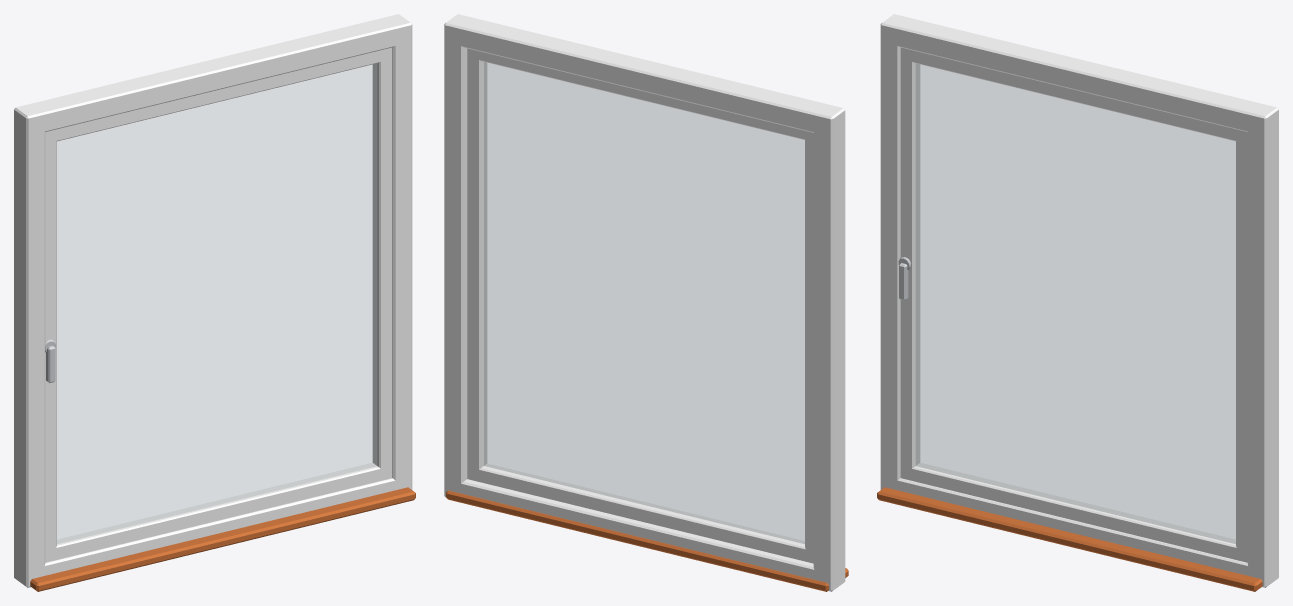
File: window-1200x1400.glb
The picture shows the model from 3 angles, left to right: view 1: azimuth 30°, elevation 25°; view 2: azimuth 150°, elevation 25°; view 3: azimuth 330°, elevation 25°; orthographic projection.
Parts seen in each view (by area): view 1: window-1200x1400.glass, window-1200x1400.tint, window-1200x1400.accent; view 2: window-1200x1400.glass, window-1200x1400.tint, window-1200x1400.accent; view 3: window-1200x1400.glass, window-1200x1400.tint, window-1200x1400.accent.
Part boxes in pixels (x1,y1,x2,y2): window-1200x1400.glass: (57,63,376,543); window-1200x1400.tint: (14,14,412,587); window-1200x1400.accent: (30,487,415,591); window-1200x1400.glass: (484,62,804,543); window-1200x1400.tint: (444,14,845,591); window-1200x1400.accent: (446,490,848,591); window-1200x1400.glass: (916,63,1235,543); window-1200x1400.tint: (880,14,1278,587); window-1200x1400.accent: (877,487,1262,591).
Size of the model in its own units: 1.2 by 1.4 by 0.12.
